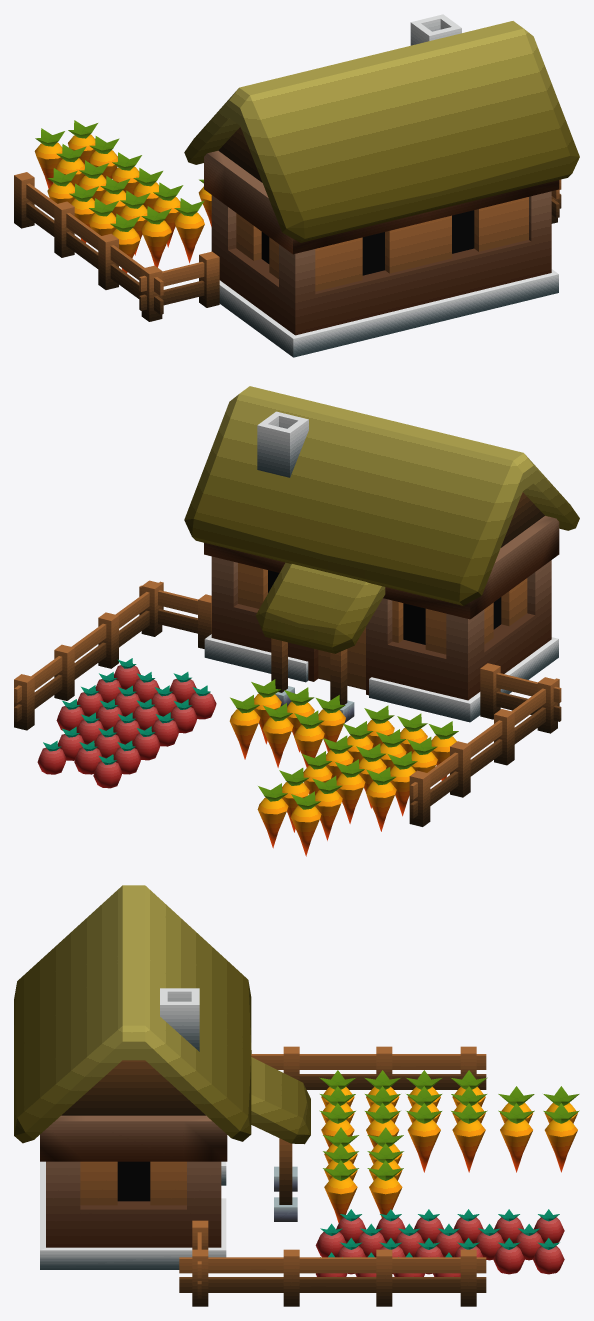
Rendered from farm_lvl3.fbx.
3 renders of one model, top to bottom at view 1: azimuth 30°, elevation 25°; view 2: azimuth 150°, elevation 25°; view 3: azimuth 270°, elevation 25°, orthographic. The views are drawn at different scales.
Parts seen in each view (by area): view 1: farm_lvl3.001; view 2: farm_lvl3.001; view 3: farm_lvl3.001.
Part boxes in pixels (x1,y1,x2,y2): farm_lvl3.001: [14, 14, 579, 357]; farm_lvl3.001: [14, 386, 579, 856]; farm_lvl3.001: [14, 885, 579, 1306].
Bounding box in the file's own units: 0.6432 × 0.3705 × 0.7139.
